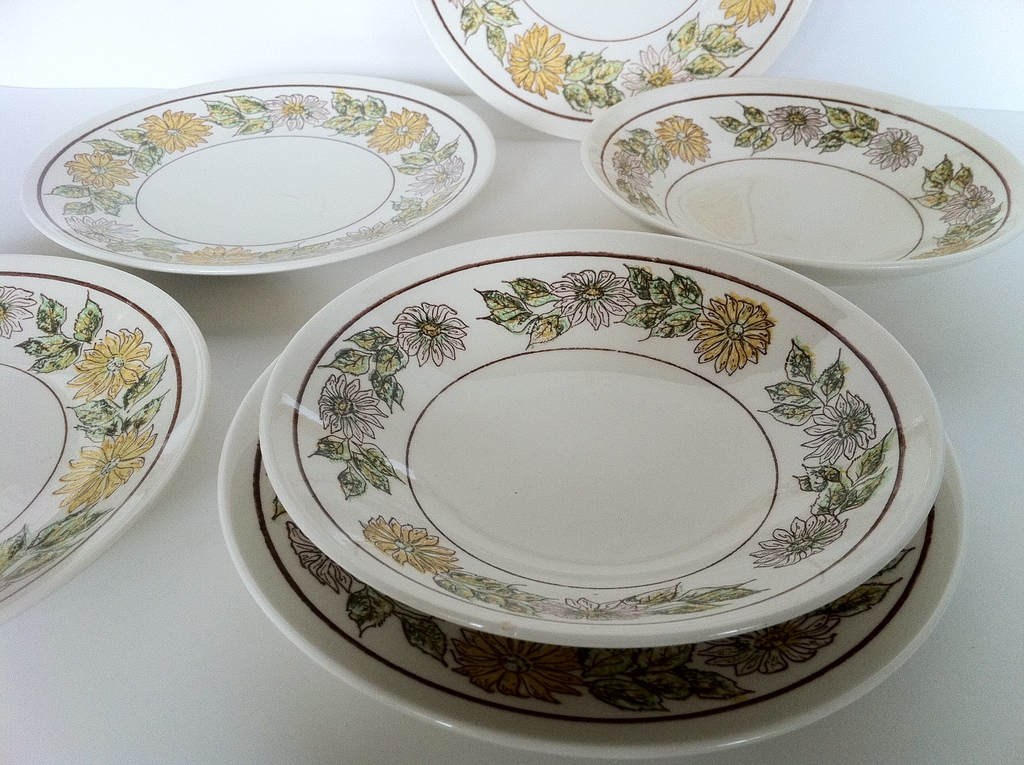plate: (12, 72, 490, 271)
